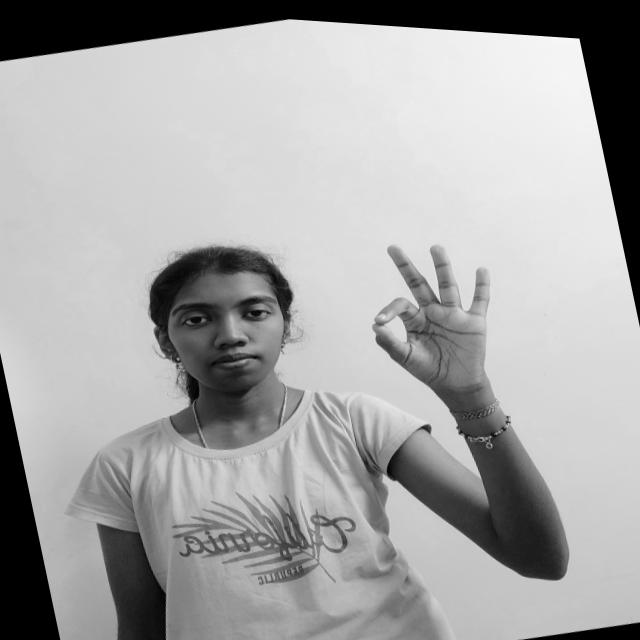Superb: (336, 211, 524, 418)
